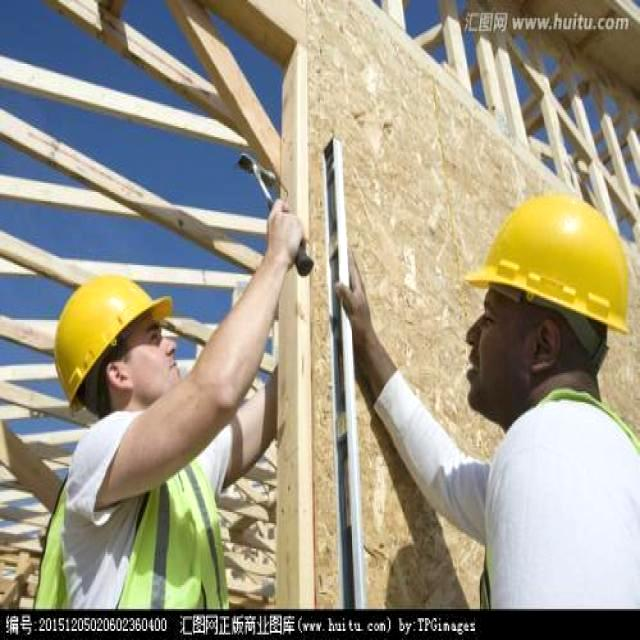hard_hat: (466, 194, 627, 329), (54, 274, 170, 413)
person: (335, 196, 639, 607), (35, 201, 303, 607)
